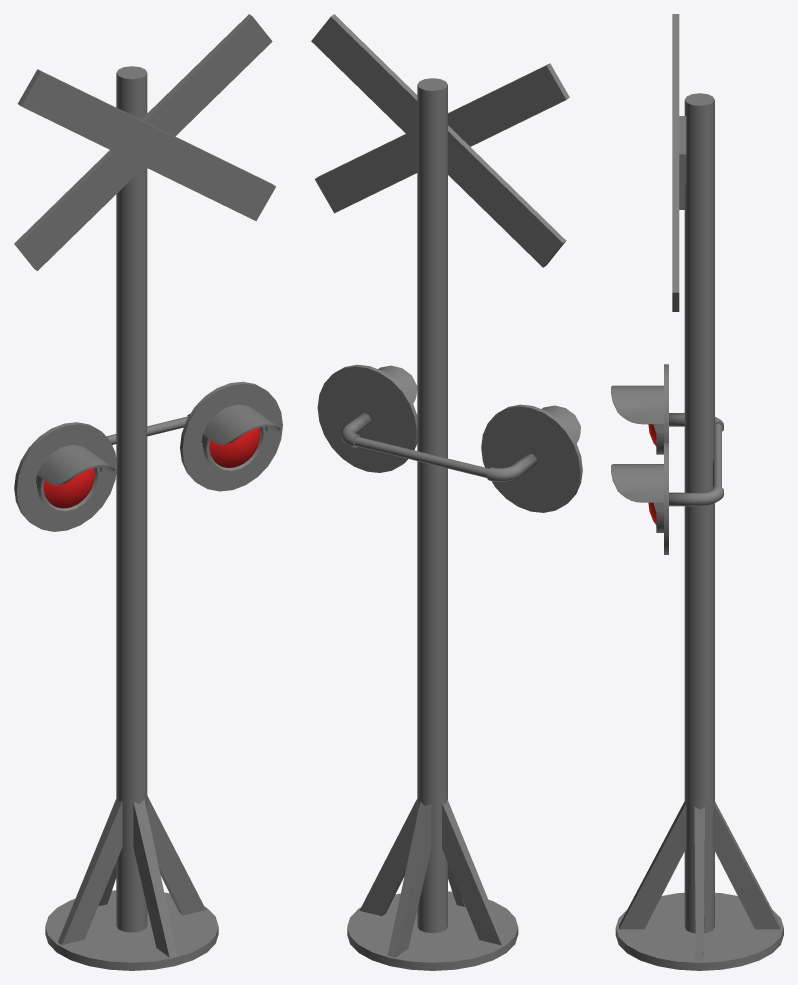
The model's file is SM_traincrossing_cross.fbx.
3 renders of one model, left to right at view 1: azimuth 30°, elevation 25°; view 2: azimuth 150°, elevation 25°; view 3: azimuth 270°, elevation 25°, orthographic. The views are drawn at different scales.
Parts seen in each view (by area): view 1: Cylinder081; view 2: Cylinder081; view 3: Cylinder081.
Boxes of the visible parts, <box> form: Cylinder081: <box>14,14,282,970</box>; Cylinder081: <box>311,14,582,970</box>; Cylinder081: <box>611,14,783,970</box>.
Size of the model in its own units: 52.32 by 169 by 30.31.
